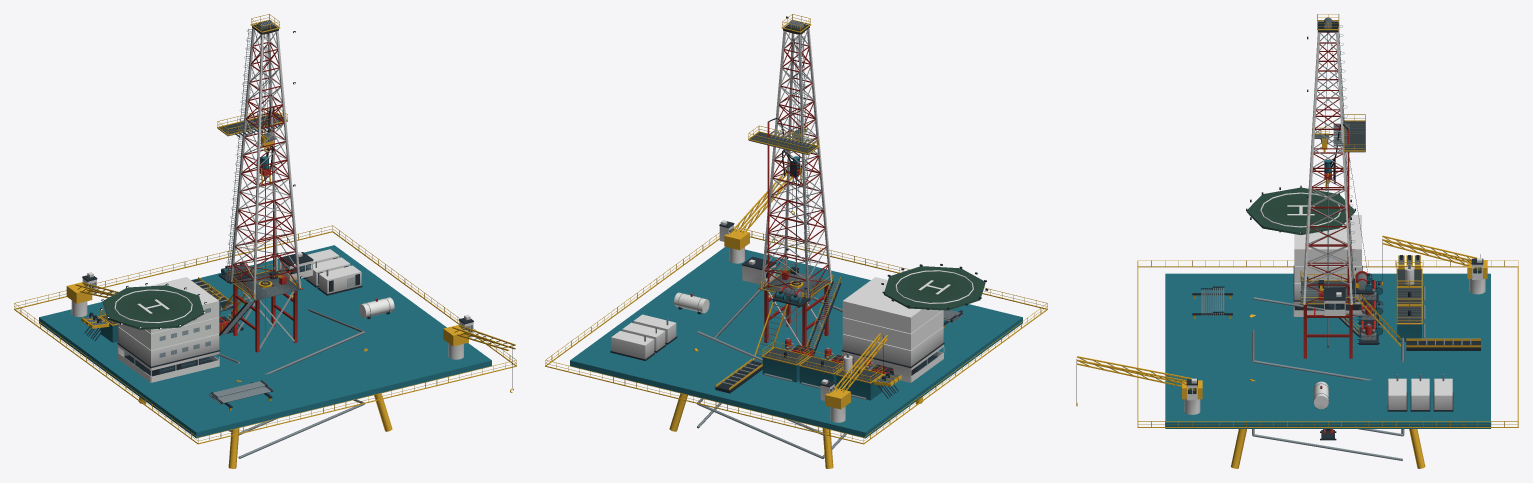
File: platform_modular_lodM.glb
3 views of the same model, side by side, from view 1: azimuth 30°, elevation 25°; view 2: azimuth 150°, elevation 25°; view 3: azimuth 270°, elevation 25° (orthographic). The views are drawn at different scales.
Visible parts, largest first — view 1: platform_deck_surface_blue, accommodation_surface_white, derrick_surface_white, deck_handrails_surface_yellow, helideck_surface_green, derrick_surface_red, generators_surface_white, jacket_surface_steel, substructure_surface_red, ladder_surface_steel, deck_crane_1_surface_yellow, drill_floor_surface_deck (+6 smaller); view 2: platform_deck_surface_blue, accommodation_surface_white, derrick_surface_white, deck_handrails_surface_yellow, helideck_surface_green, derrick_surface_red, generators_surface_white, mud_tanks_surface_blue, jacket_surface_steel, mud_tanks_surface_deck, deck_crane_2_surface_yellow, mud_tanks_surface_yellow (+9 smaller); view 3: platform_deck_surface_blue, derrick_surface_white, accommodation_surface_white, helideck_surface_green, deck_handrails_surface_yellow, derrick_surface_red, generators_surface_white, jacket_surface_steel, deck_crane_1_surface_yellow, mud_tanks_surface_deck, deck_crane_2_surface_yellow, mud_tanks_surface_steel (+8 smaller).
Part boxes in pixels (<box>): platform_deck_surface_blue: <box>39,245,491,438</box>; accommodation_surface_white: <box>117,277,219,382</box>; derrick_surface_white: <box>230,28,300,299</box>; deck_handrails_surface_yellow: <box>14,225,516,444</box>; helideck_surface_green: <box>102,285,204,329</box>; derrick_surface_red: <box>232,31,297,296</box>; generators_surface_white: <box>305,249,361,293</box>; jacket_surface_steel: <box>217,296,364,458</box>; substructure_surface_red: <box>233,284,297,352</box>; ladder_surface_steel: <box>225,29,252,282</box>; deck_crane_1_surface_yellow: <box>443,325,515,392</box>; drill_floor_surface_deck: <box>233,270,301,300</box>; platform_deck_surface_blue: <box>570,247,1022,438</box>; accommodation_surface_white: <box>842,277,944,382</box>; derrick_surface_white: <box>761,28,831,298</box>; deck_handrails_surface_yellow: <box>545,226,1047,444</box>; helideck_surface_green: <box>884,266,985,310</box>; derrick_surface_red: <box>763,31,829,297</box>; generators_surface_white: <box>611,314,676,359</box>; mud_tanks_surface_blue: <box>762,357,882,400</box>; jacket_surface_steel: <box>697,289,846,458</box>; mud_tanks_surface_deck: <box>762,348,881,383</box>; deck_crane_2_surface_yellow: <box>825,333,887,409</box>; mud_tanks_surface_yellow: <box>761,341,883,383</box>; platform_deck_surface_blue: <box>1165,273,1490,428</box>; derrick_surface_white: <box>1303,31,1352,304</box>; accommodation_surface_white: <box>1293,215,1362,316</box>; helideck_surface_green: <box>1246,187,1355,234</box>; deck_handrails_surface_yellow: <box>1137,260,1518,427</box>; derrick_surface_red: <box>1305,32,1352,303</box>; generators_surface_white: <box>1388,378,1452,409</box>; jacket_surface_steel: <box>1252,297,1404,460</box>; deck_crane_1_surface_yellow: <box>1076,356,1202,406</box>; mud_tanks_surface_deck: <box>1397,269,1422,324</box>; deck_crane_2_surface_yellow: <box>1382,235,1487,285</box>; mud_tanks_surface_steel: <box>1397,271,1425,338</box>.
Bounding box in the file's own units: 58.26 × 66.78 × 65.16.
